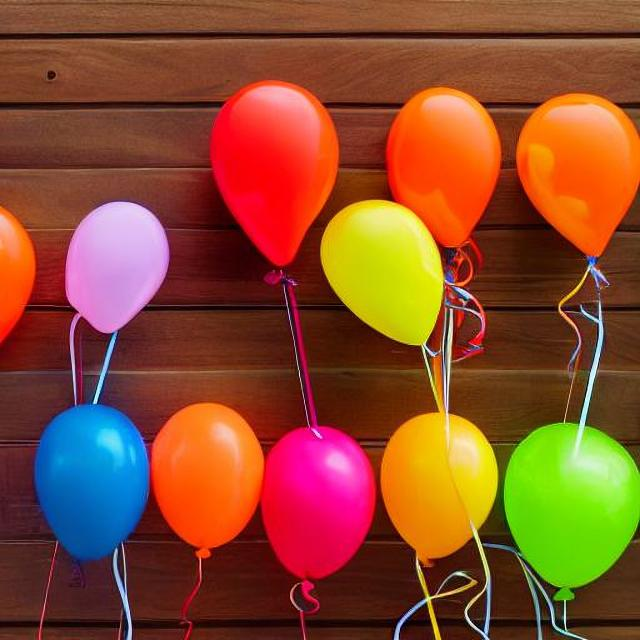balloon: (197, 80, 350, 299), (483, 424, 636, 599), (263, 419, 387, 591), (515, 76, 631, 259), (152, 392, 270, 567), (29, 399, 152, 564), (374, 410, 504, 554), (342, 182, 452, 346), (382, 83, 492, 240), (65, 197, 168, 360), (0, 192, 36, 344)
